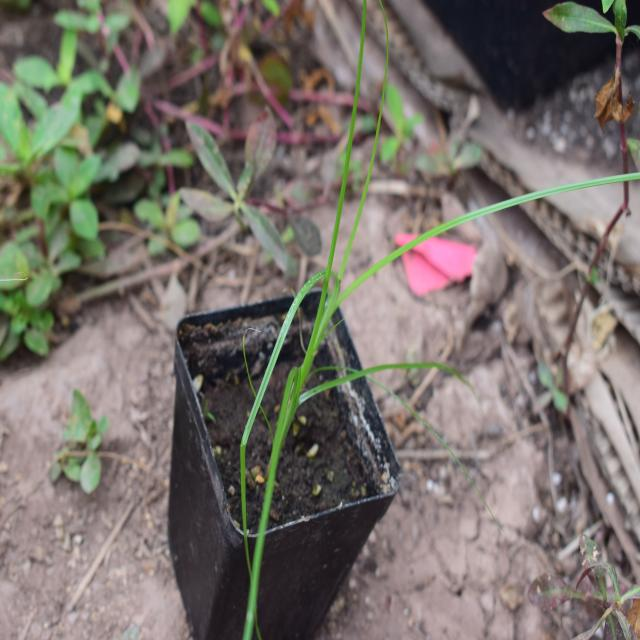sedge: (204, 56, 516, 508)
